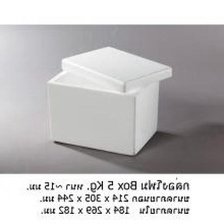foam_box: (42, 39, 180, 159)
